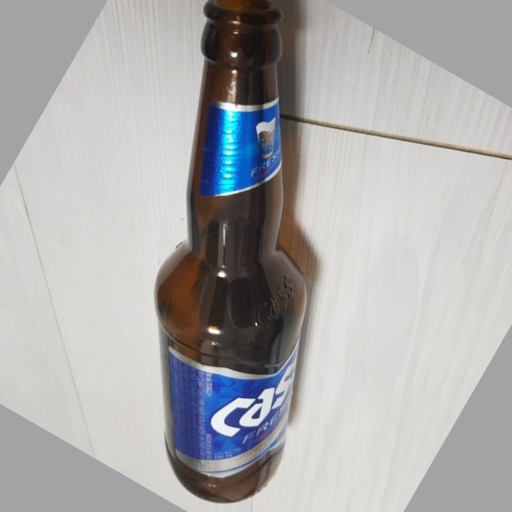Glass_1: (142, 1, 308, 507)
